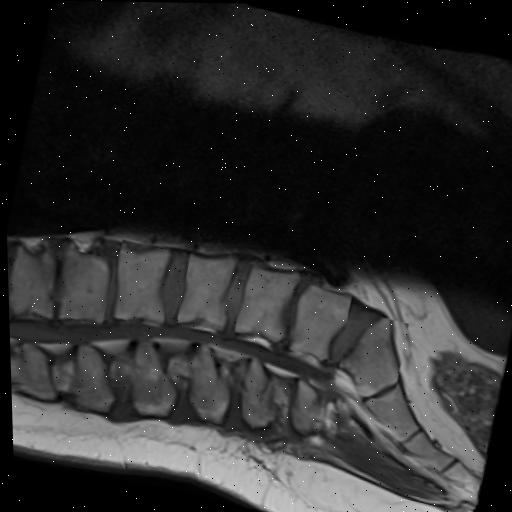L1: (58, 248, 109, 321)
L2: (112, 242, 170, 324)
L3: (176, 253, 238, 331)
L4: (233, 261, 300, 341)
L5: (290, 285, 350, 358)
S1: (337, 316, 397, 395)
